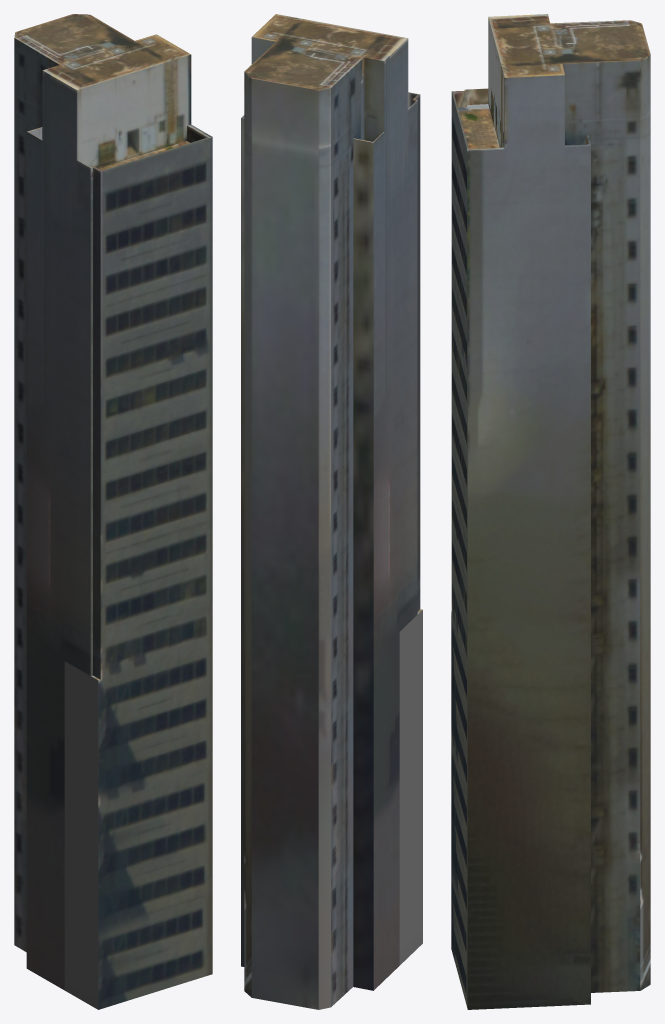
Rendered from input.glb.
3 views of the same model, side by side, from view 1: azimuth 30°, elevation 25°; view 2: azimuth 150°, elevation 25°; view 3: azimuth 270°, elevation 25° (orthographic). The views are drawn at different scales.
Visible parts, largest first — view 1: B359571551401063A0; view 2: B359571551401063A0; view 3: B359571551401063A0.
Part boxes in pixels (x1,y1,x2,y2): B359571551401063A0: (14,14,212,1009); B359571551401063A0: (241,14,422,1009); B359571551401063A0: (451,14,650,1009).
Bounding box in the file's own units: 10.69 × 69.38 × 13.48.
1 material, 1 textured.
